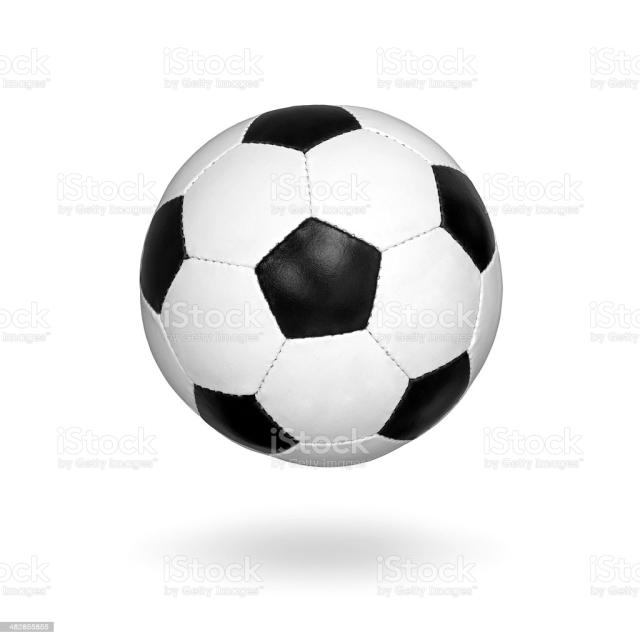soccer ball: (139, 102, 503, 469)
